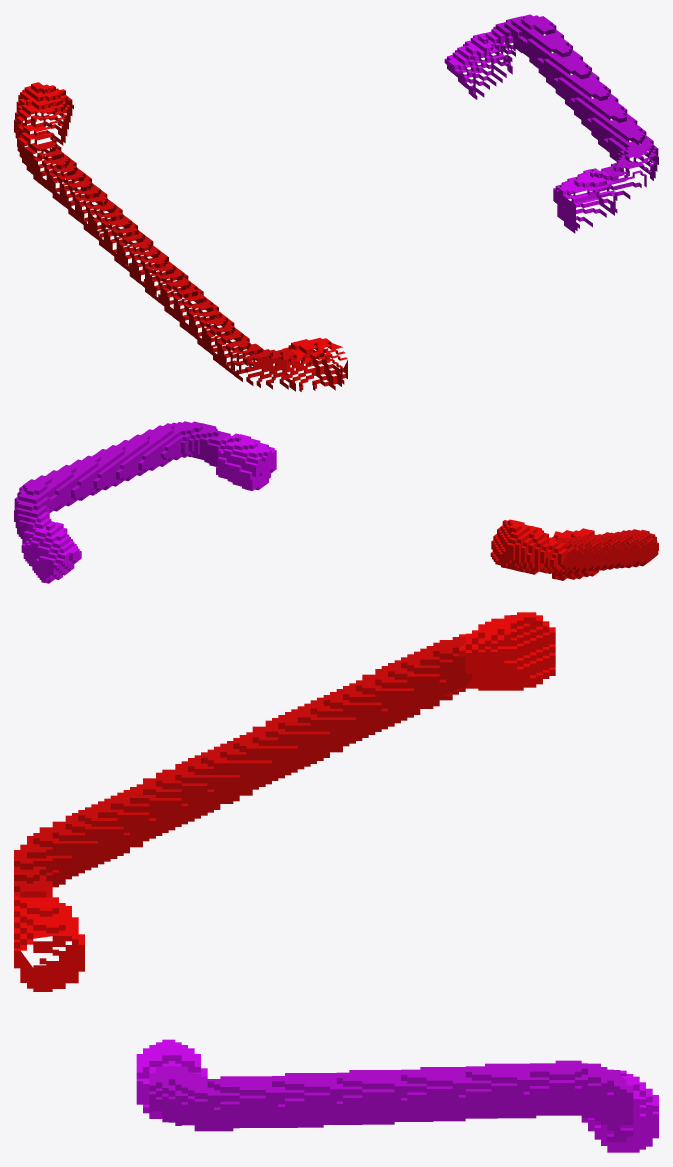
The model's file is cockpit_core_engine_side_pipes_2-1.fbx.
3 views of the same model, one above another, from view 1: azimuth 30°, elevation 25°; view 2: azimuth 150°, elevation 25°; view 3: azimuth 270°, elevation 25° (orthographic). The views are drawn at different scales.
Parts seen in each view (by area): view 1: cockpit_core_engine_side_pipes; view 2: cockpit_core_engine_side_pipes; view 3: cockpit_core_engine_side_pipes.
Boxes of the visible parts, x1=… form: cockpit_core_engine_side_pipes: x1=14, y1=14, x2=658, y2=391; cockpit_core_engine_side_pipes: x1=14, y1=421, x2=658, y2=583; cockpit_core_engine_side_pipes: x1=14, y1=612, x2=658, y2=1152.
Size of the model in its own units: 817 by 288 by 576.
